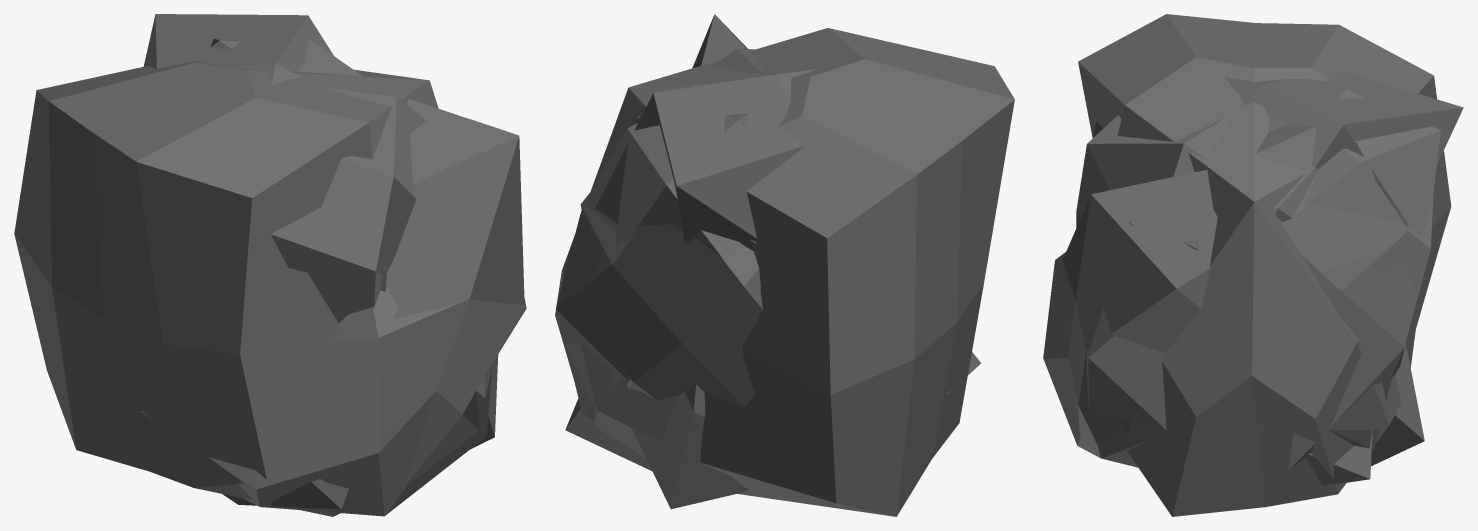
Rendered from Rocks.fbx.
The picture shows the model from 3 angles, left to right: view 1: azimuth 30°, elevation 25°; view 2: azimuth 150°, elevation 25°; view 3: azimuth 270°, elevation 25°; orthographic projection. The views are drawn at different scales.
Parts seen in each view (by area): view 1: rock, rock.001, rock.002, rock.004, rock.003; view 2: rock, rock.001, rock.003, rock.002, rock.004; view 3: rock, rock.001, rock.002, rock.004, rock.003.
Part boxes in pixels (x1=…): rock: x1=14, y1=60, x2=498, y2=516; rock.001: x1=305, y1=39, x2=524, y2=485; rock.002: x1=141, y1=38, x2=526, y2=516; rock.004: x1=270, y1=87, x2=426, y2=323; rock.003: x1=143, y1=14, x2=387, y2=509; rock: x1=555, y1=28, x2=1014, y2=516; rock.001: x1=561, y1=14, x2=762, y2=406; rock.003: x1=595, y1=69, x2=817, y2=243; rock.002: x1=556, y1=60, x2=980, y2=420; rock.004: x1=565, y1=49, x2=763, y2=509; rock: x1=1078, y1=14, x2=1451, y2=516; rock.001: x1=1063, y1=124, x2=1433, y2=443; rock.002: x1=1043, y1=89, x2=1440, y2=470; rock.004: x1=1076, y1=115, x2=1424, y2=485; rock.003: x1=1224, y1=70, x2=1463, y2=225.
Bounding box in the file's own units: 119 × 127 × 122.
